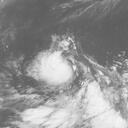cyclone: (28, 49, 78, 91)
